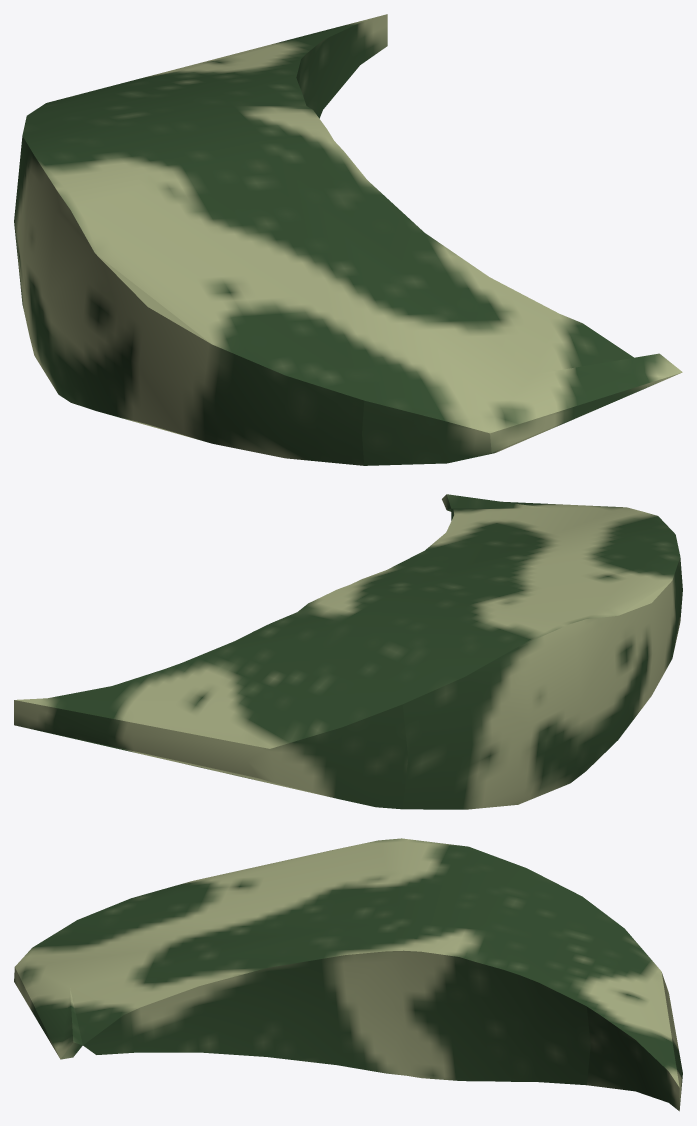
Rendered from link_body_32_composite.obj.
3 renders of one model, top to bottom at view 1: azimuth 30°, elevation 25°; view 2: azimuth 150°, elevation 25°; view 3: azimuth 270°, elevation 25°, orthographic. The views are drawn at different scales.
Parts seen in each view (by area): view 1: link_body_32; view 2: link_body_32; view 3: link_body_32.
Part boxes in pixels (left/top/right/bottom): link_body_32: left=14, top=14, right=682, bottom=465; link_body_32: left=14, top=494, right=682, bottom=809; link_body_32: left=14, top=838, right=682, bottom=1111.
Size of the model in its own units: 7.34 by 2.65 by 10.74.
1 material, 1 textured.
